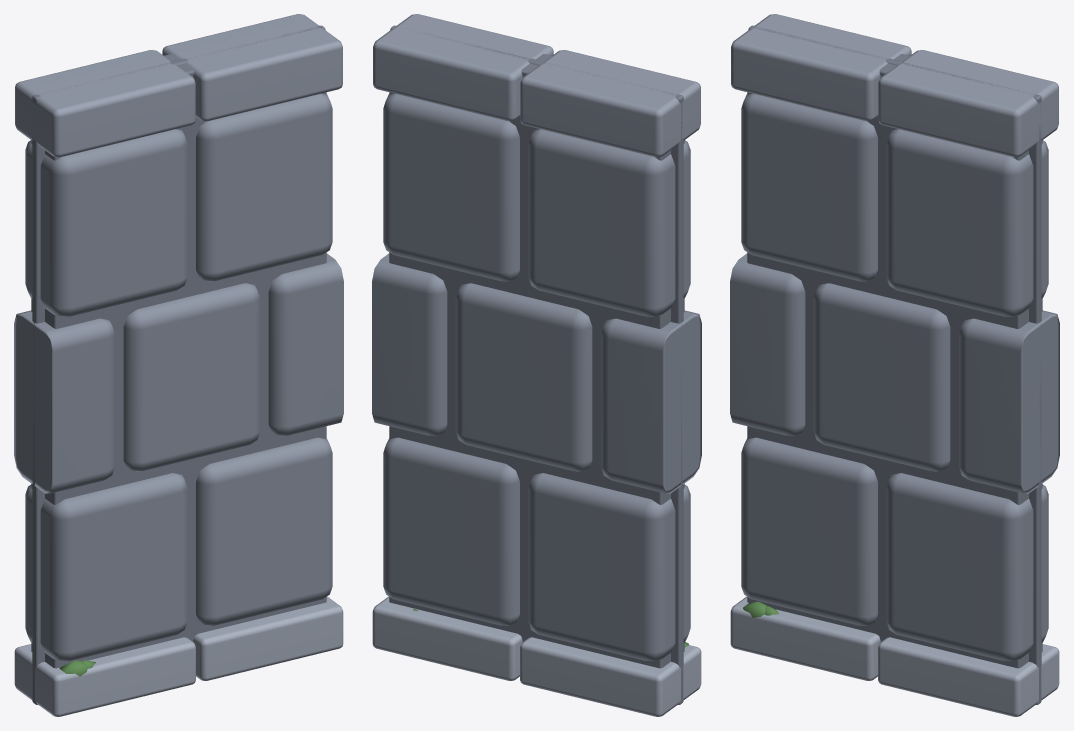
File: SM_Fortress_InnerWallModule.fbx
3 views of the same model, side by side, from view 1: azimuth 30°, elevation 25°; view 2: azimuth 150°, elevation 25°; view 3: azimuth 330°, elevation 25° (orthographic).
Parts seen in each view (by area): view 1: SM_Fortress_InnerWallModule; view 2: SM_Fortress_InnerWallModule; view 3: SM_Fortress_InnerWallModule.
Boxes of the visible parts, bbox=[...] form: SM_Fortress_InnerWallModule: bbox=[14, 14, 343, 716]; SM_Fortress_InnerWallModule: bbox=[372, 14, 701, 716]; SM_Fortress_InnerWallModule: bbox=[730, 14, 1059, 716].
Size of the model in its own units: 200 by 400 by 51.5.
